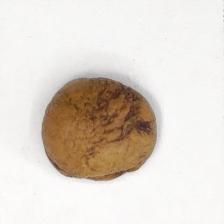NG: (92, 76, 156, 142)
